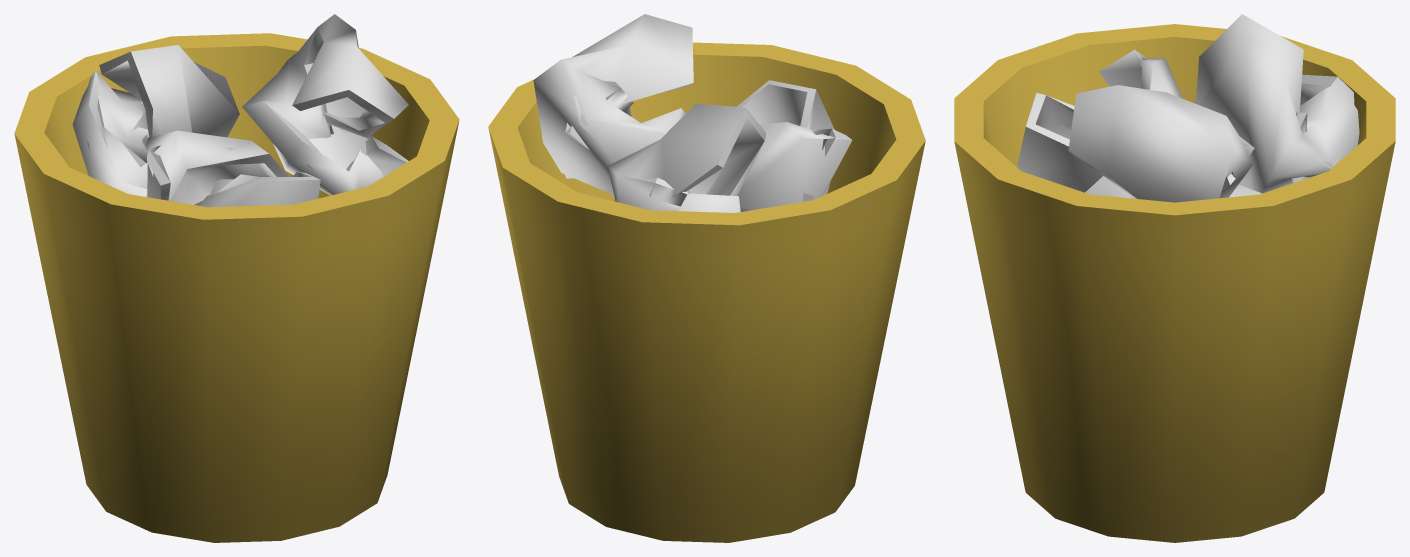
File: Bin_01.fbx
The picture shows the model from 3 angles, left to right: view 1: azimuth 30°, elevation 25°; view 2: azimuth 150°, elevation 25°; view 3: azimuth 270°, elevation 25°; orthographic projection. The views are drawn at different scales.
Parts seen in each view (by area): view 1: Cylinder009; view 2: Cylinder009; view 3: Cylinder009.
Boxes of the visible parts, x1,y1,x2,y2 form: Cylinder009: (14,14,459,542); Cylinder009: (488,14,925,542); Cylinder009: (954,14,1395,542).
Bounding box in the file's own units: 46.52 × 49.7 × 45.36.
